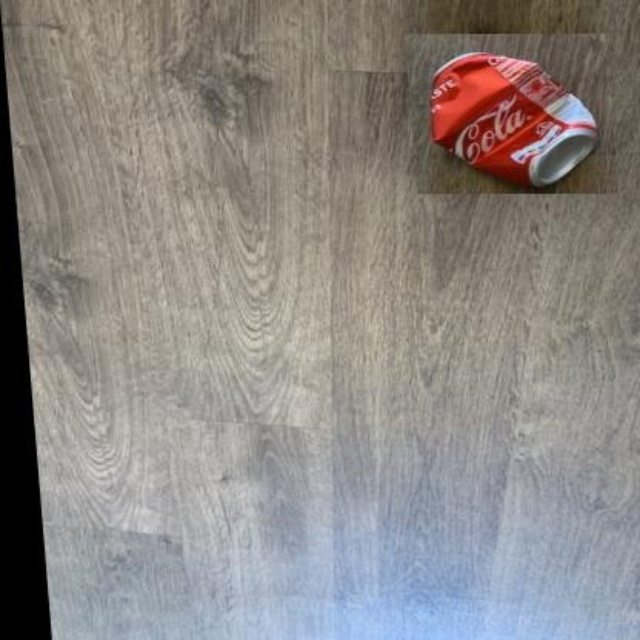trash: (431, 52, 595, 185)
